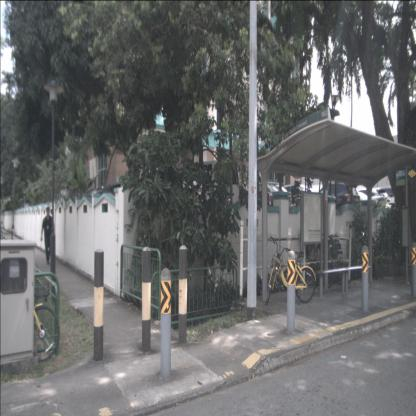human-pedestrian-adult: (40, 206, 55, 265)
vehicle-bicycle: (0, 276, 60, 363), (265, 235, 317, 306), (322, 245, 348, 288)
